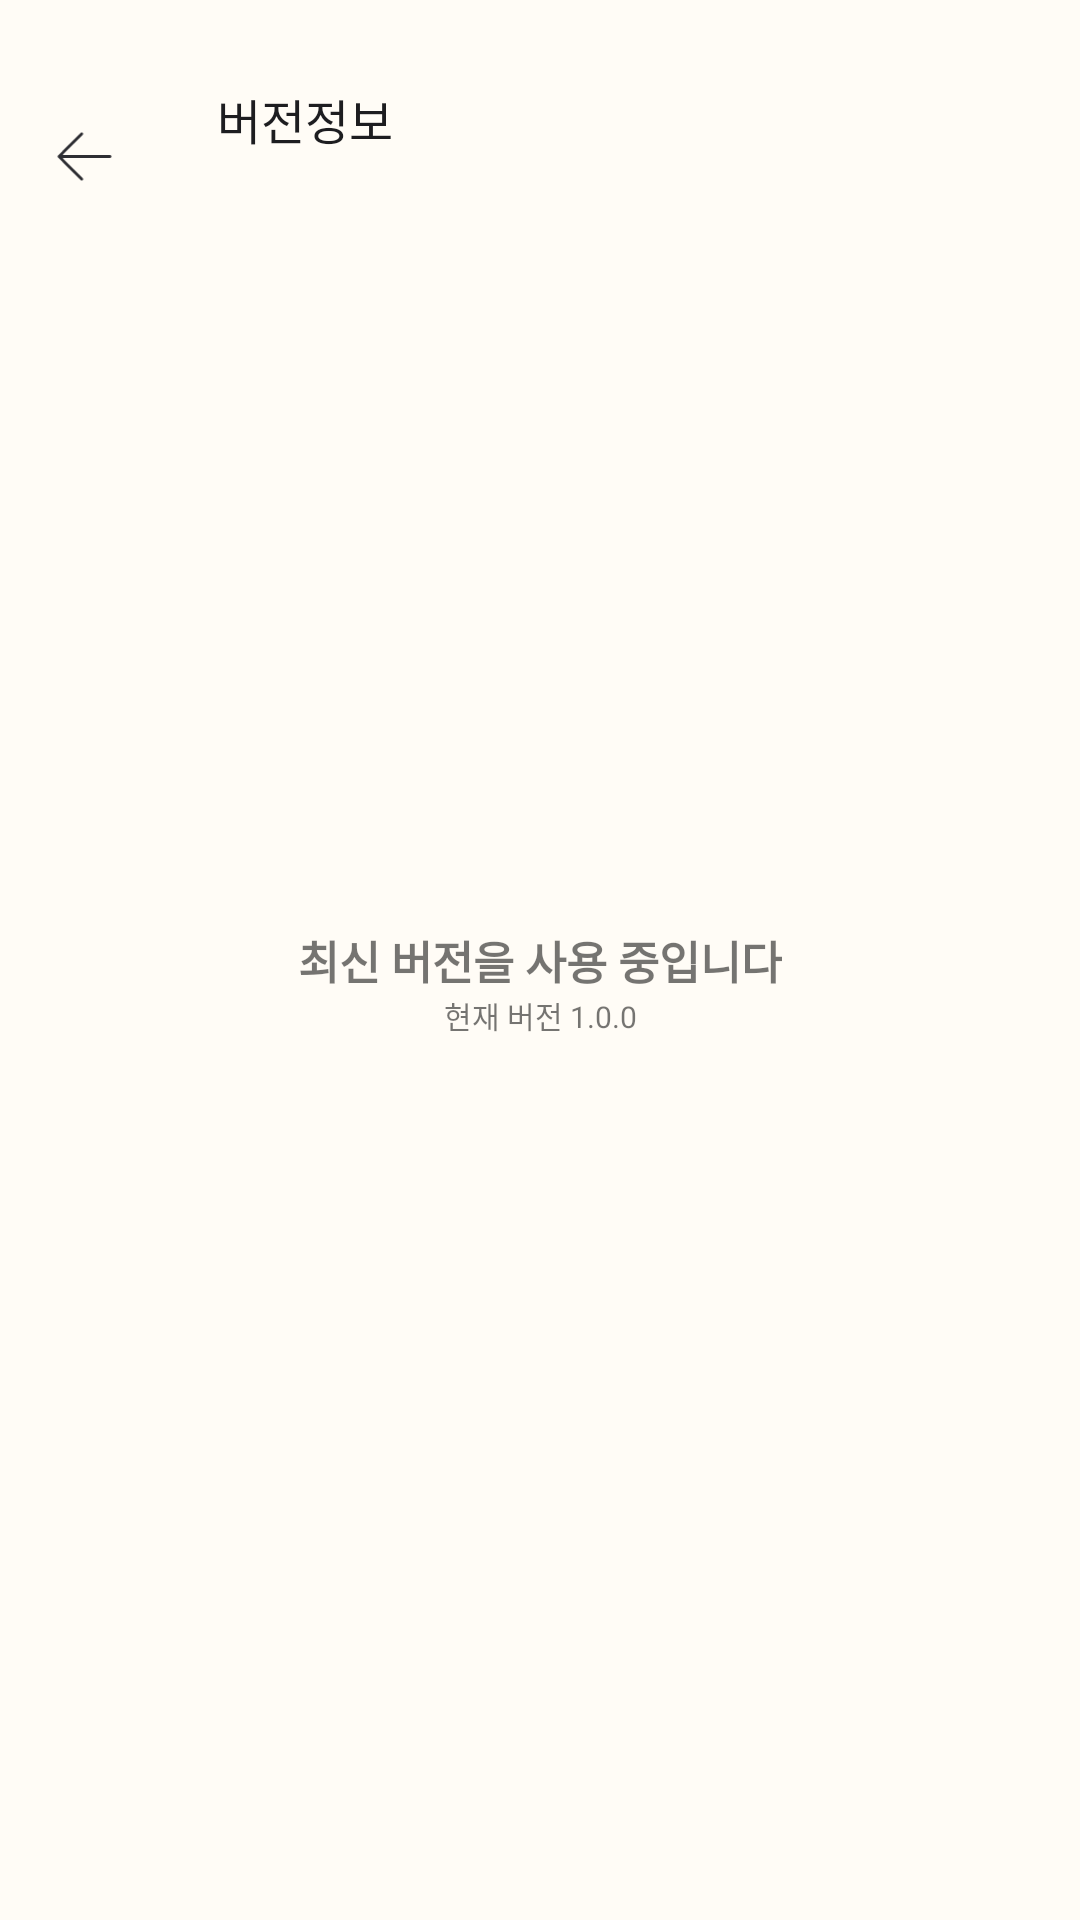

Icon bounding boxes for this 1080w x 1920h phone screenshot, format (x1, y1, x2, y2):
back: (57, 132, 112, 181)
